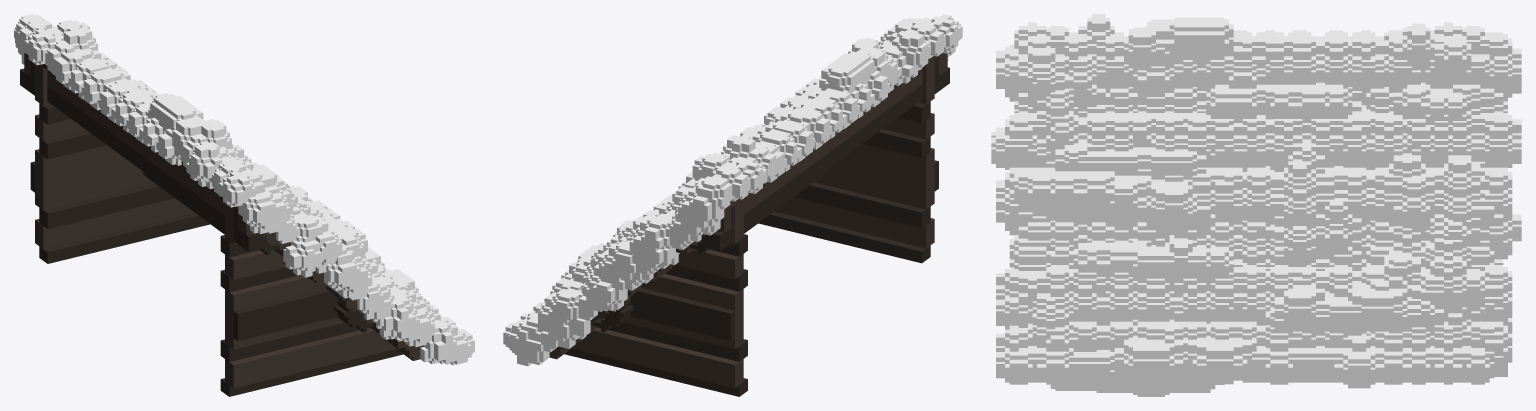
The model's file is RoofHalfFilledSnowed.obj.
3 renders of one model, left to right at view 1: azimuth 30°, elevation 25°; view 2: azimuth 150°, elevation 25°; view 3: azimuth 270°, elevation 25°, orthographic. The views are drawn at different scales.
Bounding box in the file's own units: 6.5 × 6.5 × 11.6.
Materials: 1 (1 with a texture image).
